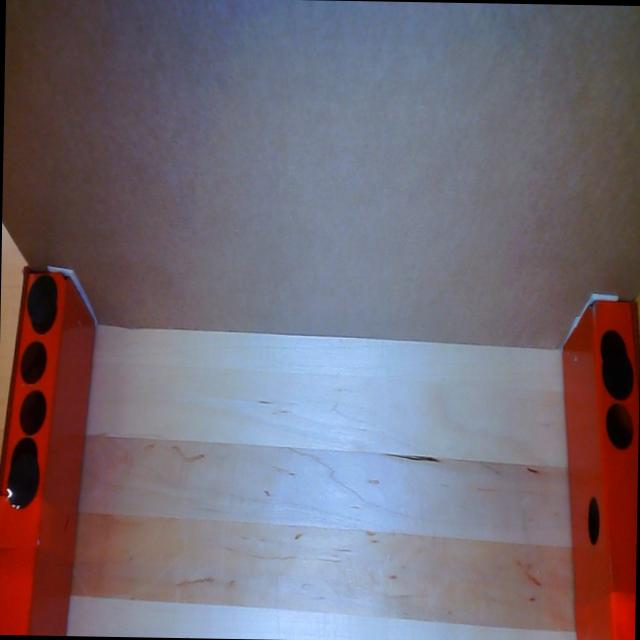Hole: (604, 402, 632, 449), (19, 388, 47, 435), (10, 434, 39, 476), (19, 339, 46, 384), (28, 292, 56, 334), (598, 328, 626, 366), (586, 496, 600, 544)
Sticker: (4, 454, 41, 510), (600, 348, 634, 402), (26, 269, 58, 319)
